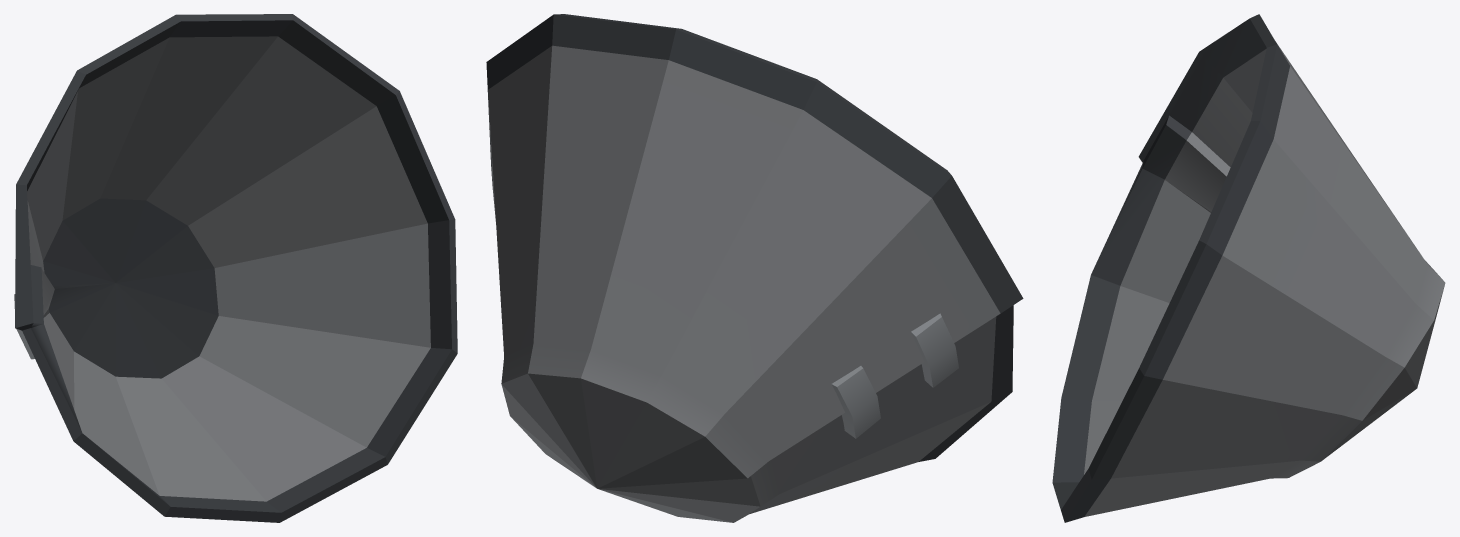
Rendered from SM_Chr_Attach_HeadCone_Medium_01.fbx.
The picture shows the model from 3 angles, left to right: view 1: azimuth 30°, elevation 25°; view 2: azimuth 150°, elevation 25°; view 3: azimuth 270°, elevation 25°; orthographic projection. The views are drawn at different scales.
Parts seen in each view (by area): view 1: SM_Chr_Attach_HeadCone_Medium_01; view 2: SM_Chr_Attach_HeadCone_Medium_01; view 3: SM_Chr_Attach_HeadCone_Medium_01.
Part boxes in pixels (x1=…): SM_Chr_Attach_HeadCone_Medium_01: x1=14, y1=14, x2=457, y2=522; SM_Chr_Attach_HeadCone_Medium_01: x1=486, y1=14, x2=1023, y2=522; SM_Chr_Attach_HeadCone_Medium_01: x1=1052, y1=14, x2=1445, y2=522.
Size of the model in its own units: 51.49 by 48.19 by 38.05.
